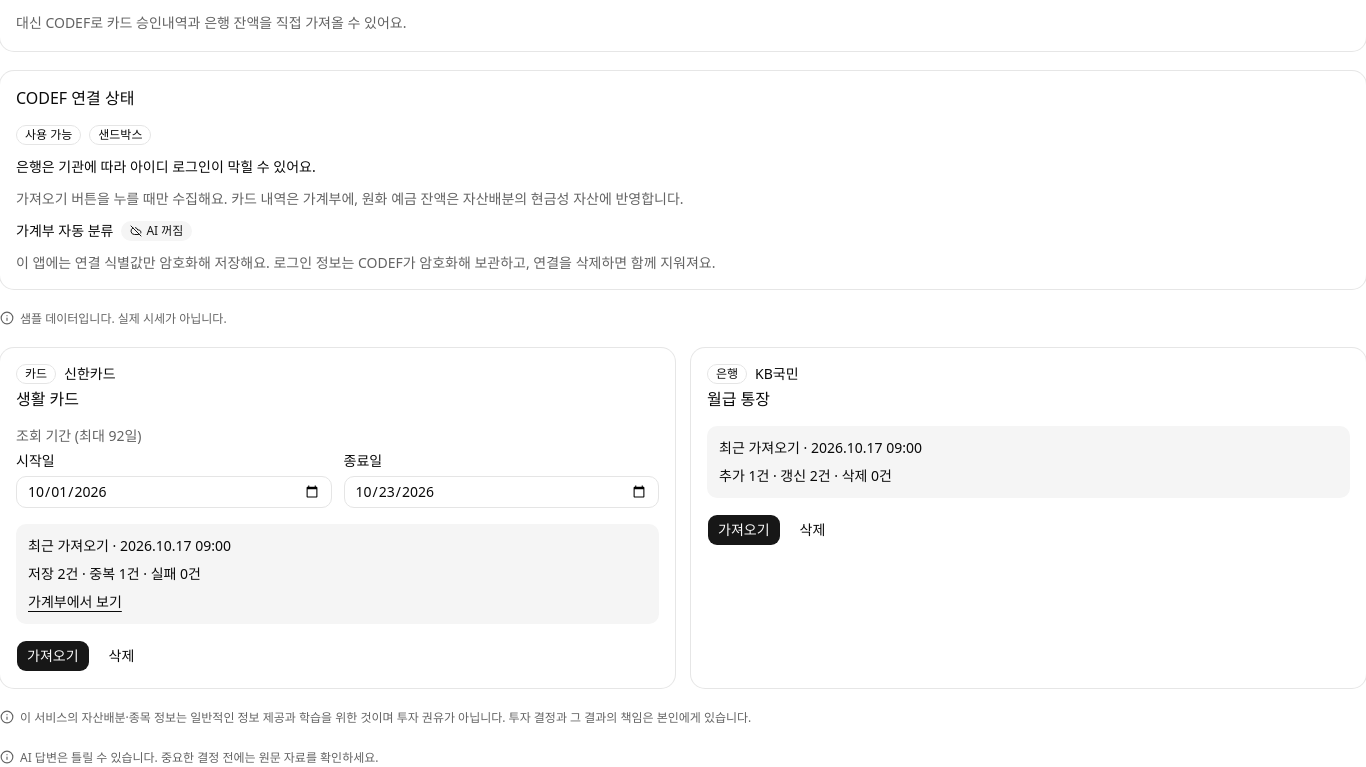
Test case: 데이터 자동 수집 › 계정 삭제 뒤 캐시를 정리한다(localOnly=false)
(page scrolled)
Expected: the text "저장 2건 · 중복 1건 · 실패 0건" is shown, [28,564,201,583]
Expected: the text "추가 1건 · 갱신 2건 · 삭제 0건" is shown, [719,466,892,485]
Click the button "삭제" below "가계부에서 보기" at coordinates (121, 656), box [98,640,145,672]
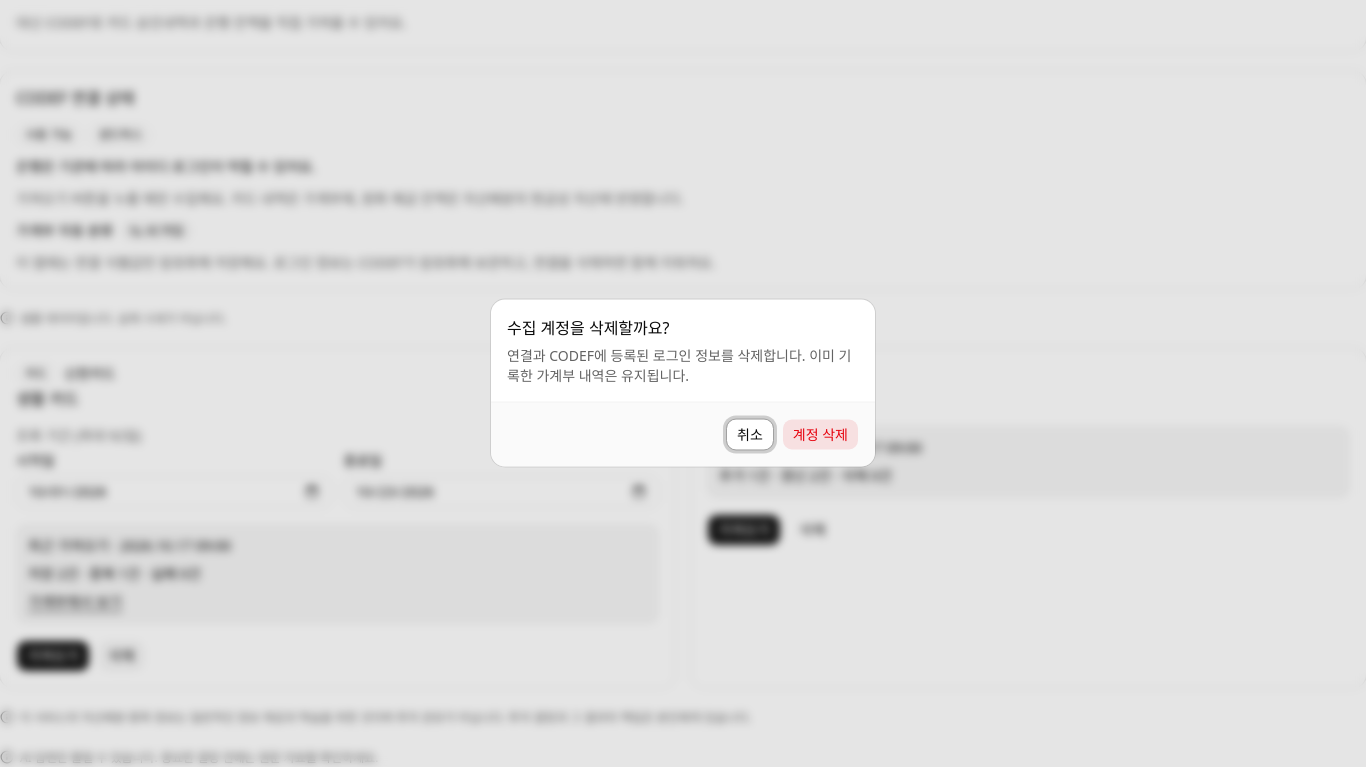
Click the button "계정 삭제" at coordinates (820, 434), box [782,418,859,450]
(page scrolled)
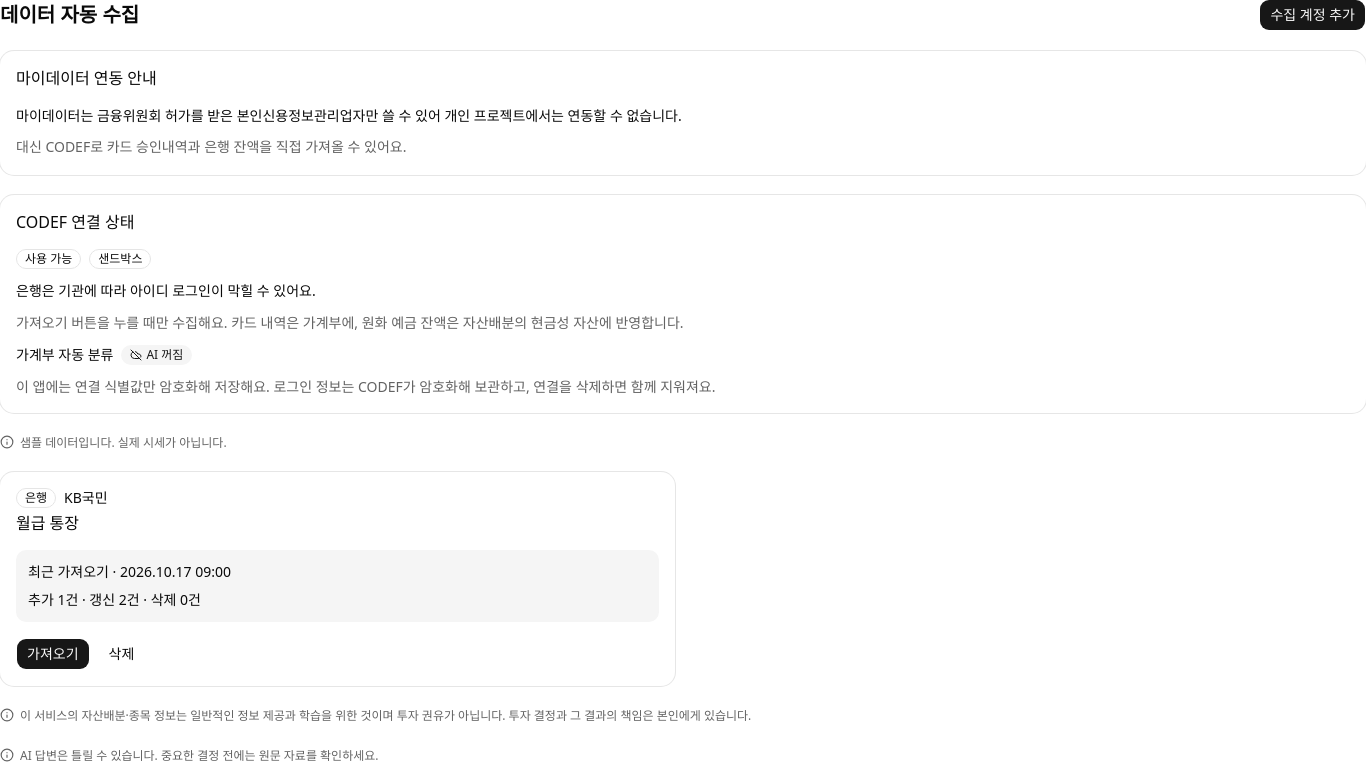
Expected: the text "월급 통장" is shown, [16,512,79,534]
Now the text "생활 카드" is gone
Now the message "최근 가져오기 · 2026.10.17 09:00 저장 2건 · 중복 1건 · 실패 0건 가계부에서 보기" is gone
